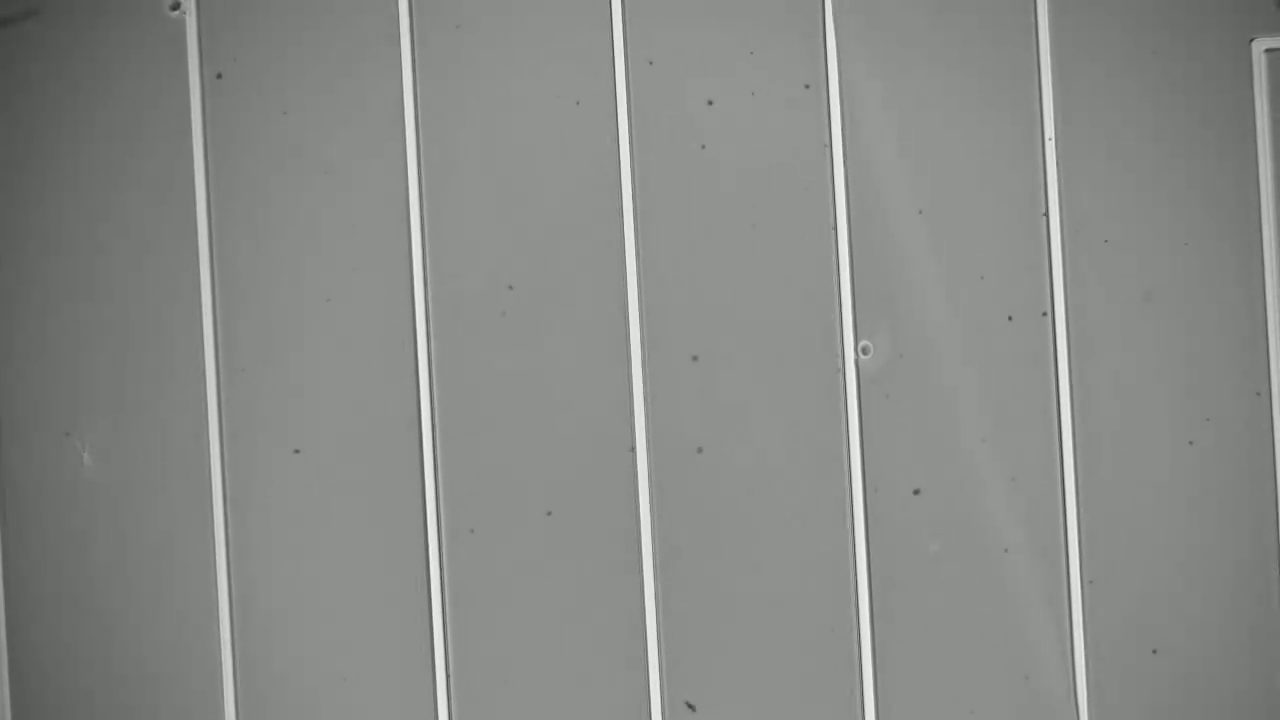stains_enbedded: (160, 1, 202, 21)
